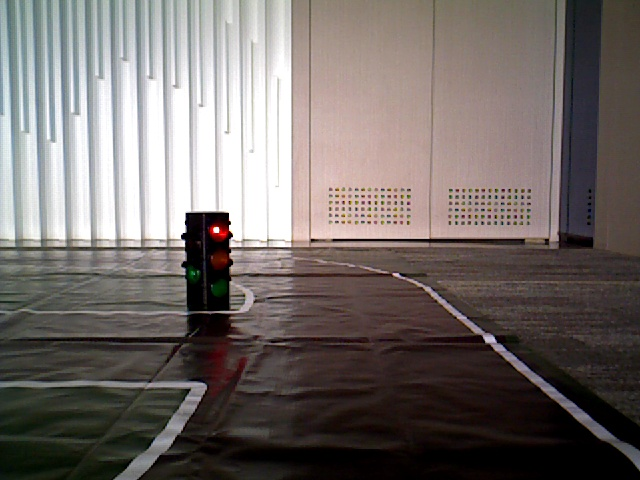red: (197, 213, 230, 290)
